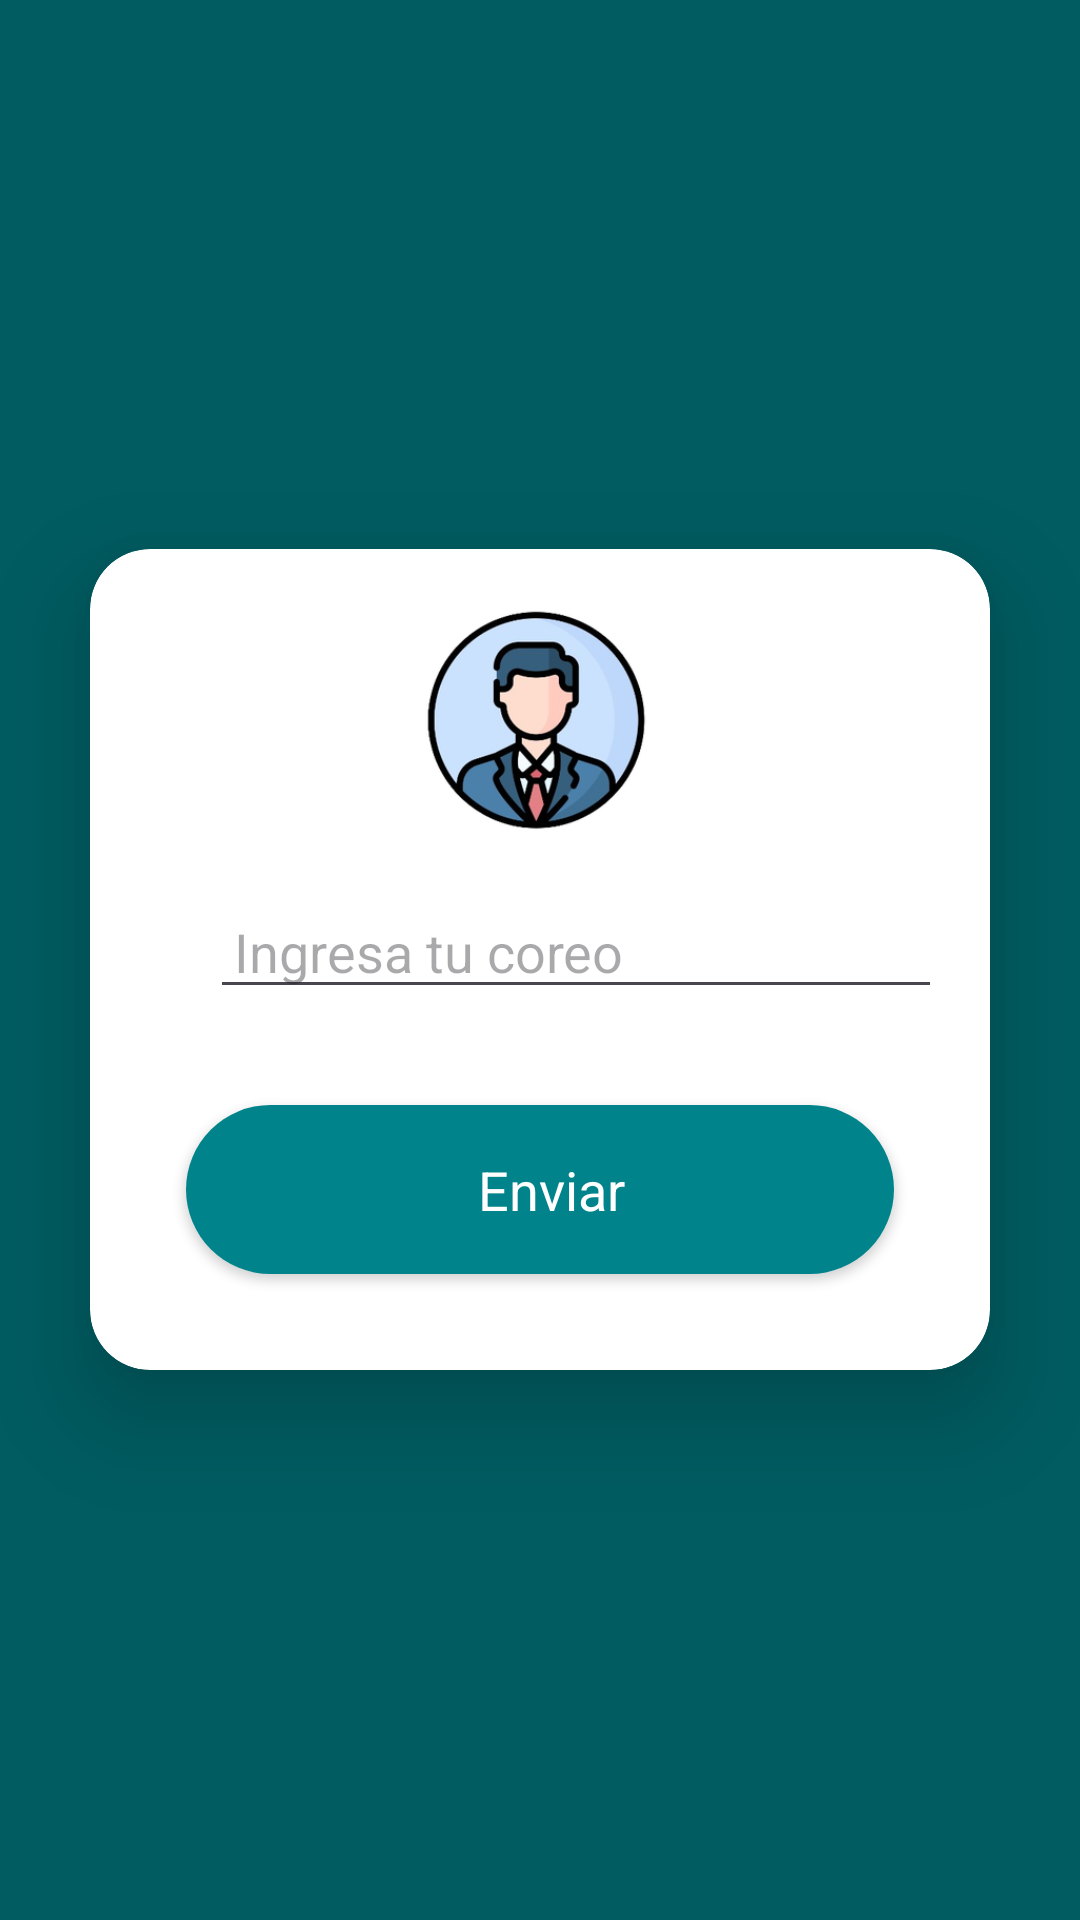

Named icons in this screenshot (1080×1920) and their bounding boxes, (x1, y1, x2, y2):
perfil: (427, 611, 645, 829)
